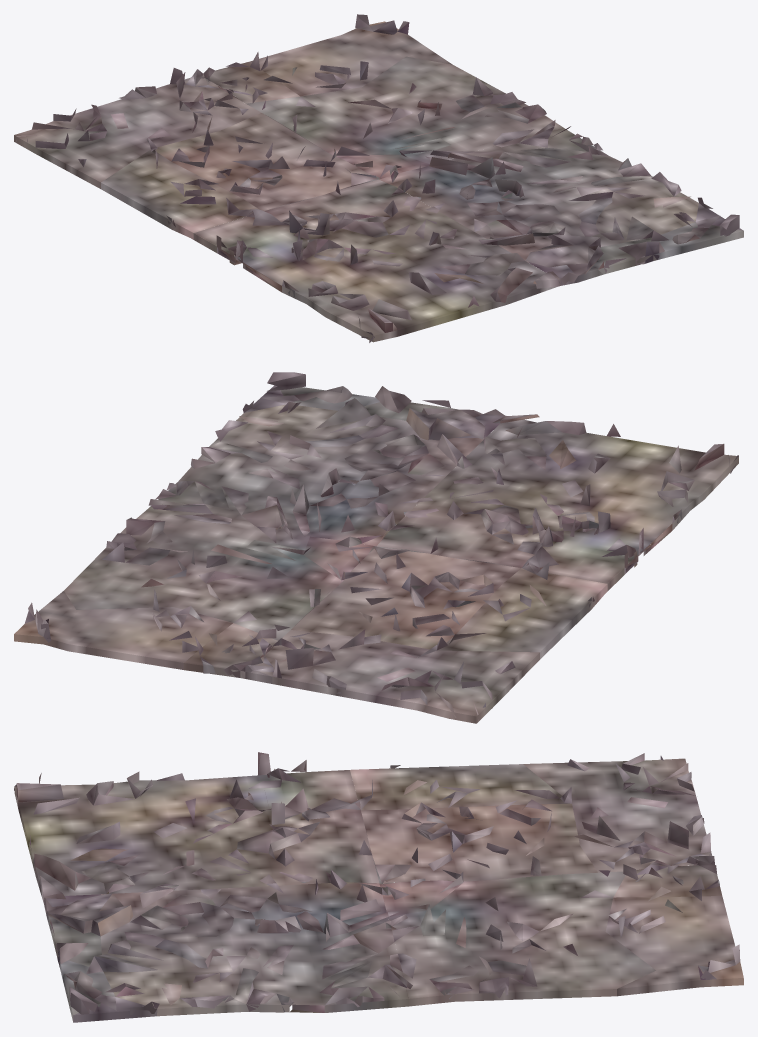
3 views of the same model, one above another, from view 1: azimuth 30°, elevation 25°; view 2: azimuth 150°, elevation 25°; view 3: azimuth 270°, elevation 25° (orthographic). The views are drawn at different scales.
Parts seen in each view (by area): view 1: Mesh_0; view 2: Mesh_0; view 3: Mesh_0.
Boxes of the visible parts, x1,y1,x2,y2 form: Mesh_0: (14, 14, 743, 342); Mesh_0: (14, 372, 738, 723); Mesh_0: (14, 752, 743, 1022).
Size of the model in its own units: 1066 by 89.08 by 1319.
1 material, 1 textured.
